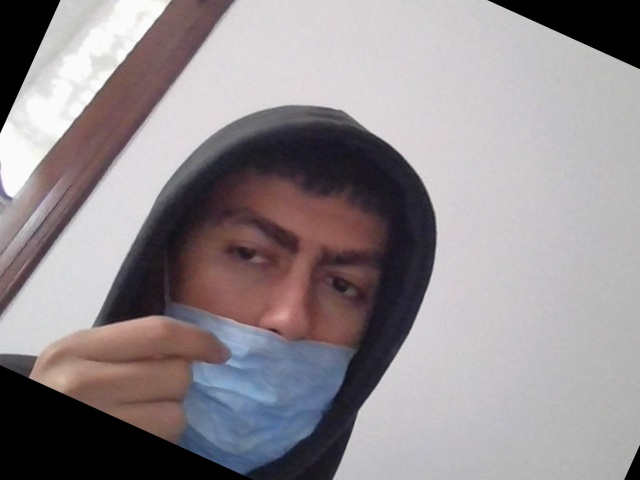mask_weared_incorrect: (143, 123, 396, 469)
